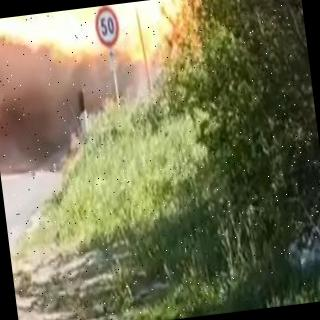smoke: (0, 72, 78, 171)
